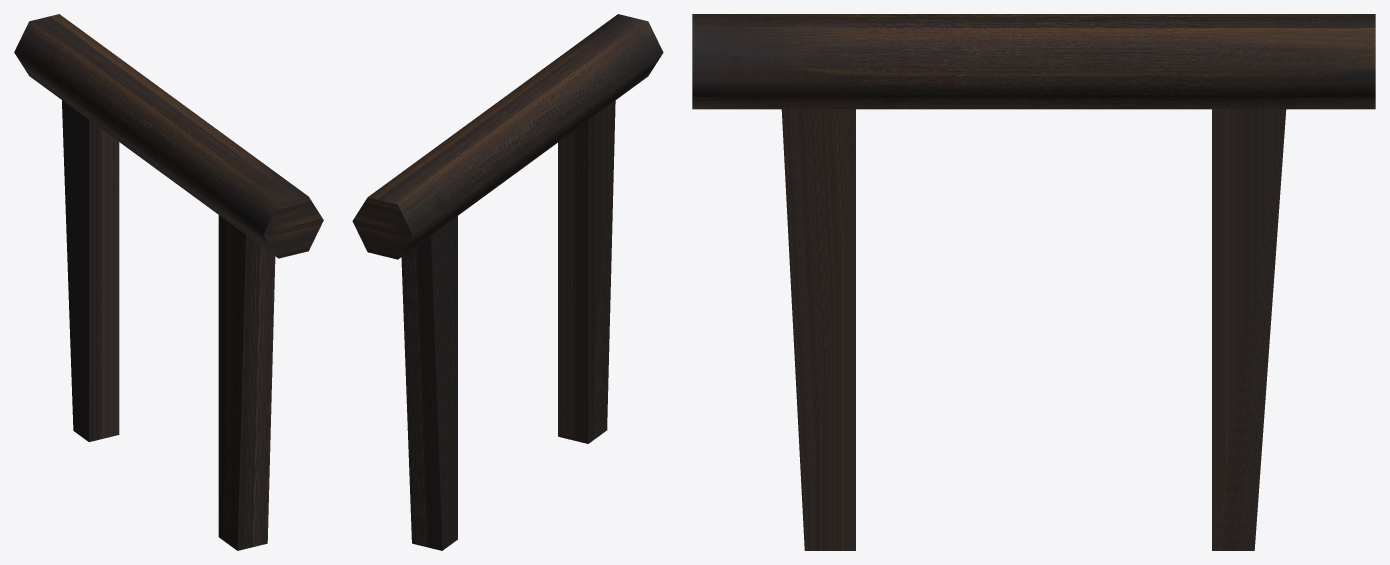
File: cart-02-4.FBX
3 renders of one model, left to right at view 1: azimuth 30°, elevation 25°; view 2: azimuth 150°, elevation 25°; view 3: azimuth 270°, elevation 25°, orthographic. The views are drawn at different scales.
Visible parts, largest first — view 1: Cylinder001; view 2: Cylinder001; view 3: Cylinder001.
Boxes of the visible parts, box(x1,y1,x2,y2) form: Cylinder001: box(14, 14, 323, 550); Cylinder001: box(352, 14, 663, 550); Cylinder001: box(692, 14, 1375, 550).
Bounding box in the file's own units: 7.02 × 41.9 × 50.22.
Materials: 1 (1 with a texture image).
